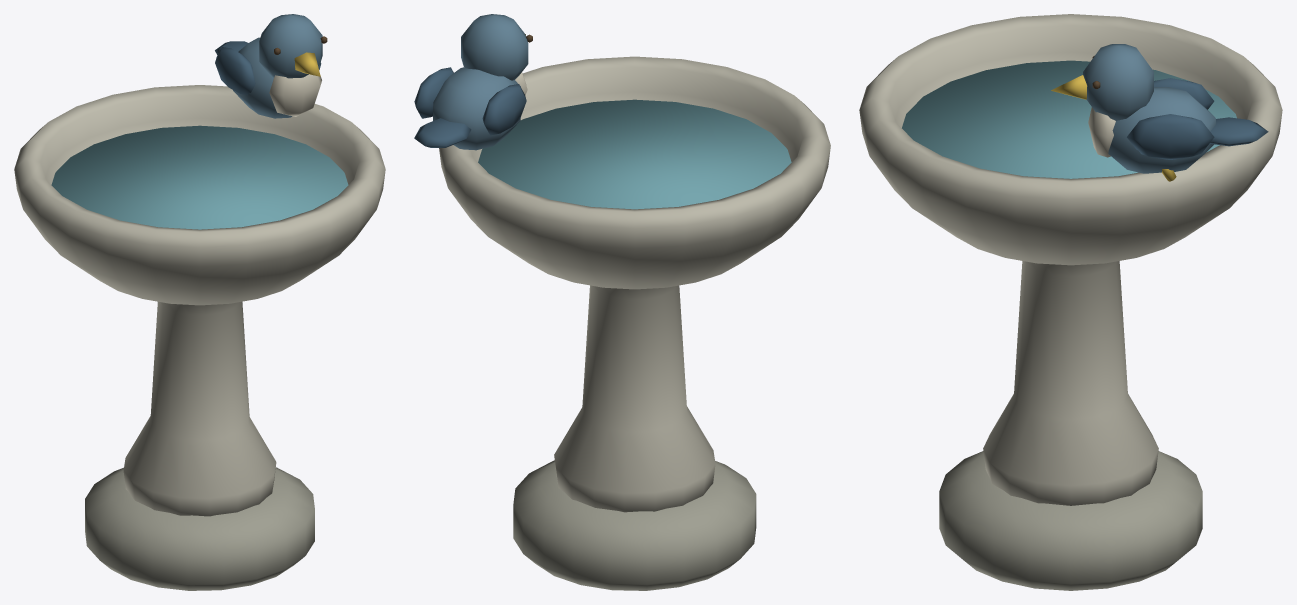
Rendered from deco_birdbath.glb.
The picture shows the model from 3 angles, left to right: view 1: azimuth 30°, elevation 25°; view 2: azimuth 150°, elevation 25°; view 3: azimuth 270°, elevation 25°; orthographic projection. The views are drawn at different scales.
Visible parts, largest first — view 1: deco_birdbath; view 2: deco_birdbath; view 3: deco_birdbath.
Part boxes in pixels (<box>): deco_birdbath: <box>14,14,385,590</box>; deco_birdbath: <box>414,14,830,590</box>; deco_birdbath: <box>859,14,1282,590</box>.
Size of the model in its own units: 0.578 by 0.84 by 0.578.
